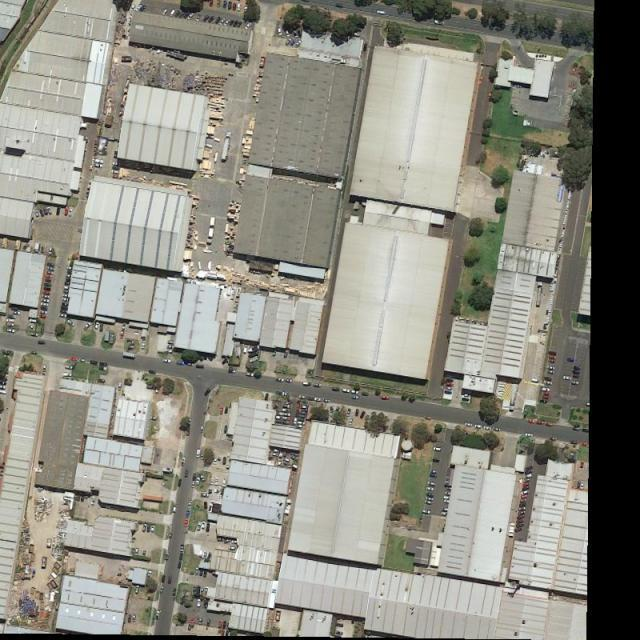vehicle: (68, 355, 81, 362), (202, 15, 210, 24), (434, 19, 446, 25), (359, 410, 366, 420), (223, 18, 231, 26), (66, 319, 74, 327), (83, 322, 91, 330), (29, 331, 39, 337), (64, 364, 74, 370), (155, 609, 161, 619), (172, 504, 178, 514), (200, 492, 210, 498), (227, 368, 237, 374), (381, 394, 391, 400), (543, 380, 553, 386), (179, 10, 186, 18), (183, 11, 190, 19), (188, 12, 195, 20), (245, 22, 252, 30), (5, 328, 16, 333), (63, 372, 74, 377), (162, 358, 173, 363), (94, 162, 103, 168), (134, 547, 140, 556), (549, 350, 558, 356), (39, 309, 49, 314), (197, 598, 202, 608), (215, 476, 220, 486), (196, 448, 201, 458), (354, 408, 359, 418), (136, 4, 143, 11), (175, 10, 181, 18), (196, 14, 202, 22), (208, 15, 214, 23), (215, 16, 221, 24), (246, 371, 254, 377), (314, 382, 322, 388), (298, 394, 306, 400), (227, 1, 232, 10), (43, 282, 52, 287), (42, 290, 51, 295), (12, 310, 21, 315), (61, 297, 70, 302), (135, 585, 140, 594), (193, 585, 198, 594), (164, 552, 169, 561), (194, 567, 199, 576), (188, 499, 193, 508), (284, 378, 293, 383), (342, 388, 351, 393), (350, 389, 359, 394), (464, 422, 473, 427), (517, 510, 526, 515), (524, 473, 533, 478), (525, 433, 534, 438), (526, 418, 535, 423), (549, 436, 558, 441), (542, 387, 551, 392), (64, 207, 69, 216), (5, 318, 16, 322), (547, 354, 558, 358), (161, 8, 167, 15), (208, 1, 214, 8), (220, 18, 226, 25), (233, 20, 239, 27), (295, 40, 301, 47), (170, 9, 175, 17), (238, 3, 242, 13), (94, 159, 104, 163), (42, 294, 50, 299), (42, 298, 50, 303), (28, 318, 38, 322), (59, 313, 67, 318), (94, 322, 99, 330), (141, 341, 146, 349), (206, 618, 211, 626), (168, 575, 172, 585), (197, 522, 201, 532), (180, 543, 184, 553), (178, 478, 182, 488), (185, 468, 189, 478), (213, 457, 218, 465), (200, 424, 204, 434), (176, 360, 184, 365), (186, 362, 194, 367), (314, 397, 322, 402), (474, 424, 482, 429), (493, 426, 501, 431), (427, 481, 435, 486), (426, 486, 434, 491), (426, 492, 434, 497), (426, 496, 434, 501), (425, 500, 433, 505), (580, 482, 585, 490), (514, 528, 524, 532), (518, 506, 526, 511), (376, 10, 386, 14), (69, 208, 73, 218), (233, 2, 237, 11), (40, 302, 49, 306), (6, 322, 15, 326), (118, 382, 122, 391), (201, 586, 205, 595), (162, 575, 166, 584), (150, 525, 154, 534), (142, 548, 146, 557), (228, 546, 237, 550), (179, 553, 183, 562), (183, 518, 187, 527), (186, 510, 190, 519), (191, 480, 195, 489), (195, 477, 199, 486), (222, 478, 226, 487), (220, 406, 224, 415), (275, 378, 284, 382), (302, 382, 311, 386), (349, 417, 353, 426), (422, 510, 431, 514), (535, 420, 544, 424), (539, 399, 548, 403), (546, 366, 555, 370), (130, 3, 135, 10), (35, 210, 40, 217), (198, 618, 203, 625), (546, 422, 553, 427), (290, 39, 295, 46), (285, 39, 290, 46), (278, 28, 282, 36), (47, 206, 51, 214), (46, 270, 54, 274), (38, 314, 46, 318), (59, 309, 67, 313), (62, 302, 70, 306), (62, 294, 70, 298), (30, 350, 38, 354), (132, 614, 136, 622), (160, 586, 164, 594), (218, 621, 222, 629), (205, 586, 209, 594), (142, 524, 146, 532), (203, 551, 207, 559), (178, 561, 182, 569), (210, 477, 214, 485), (483, 426, 491, 430), (516, 522, 524, 526), (522, 486, 530, 490), (571, 381, 579, 385), (563, 375, 571, 379), (446, 382, 454, 386), (546, 370, 554, 374), (548, 359, 556, 363), (110, 170, 118, 174), (112, 162, 120, 166), (56, 207, 60, 215), (286, 30, 290, 38), (294, 30, 298, 38), (216, 1, 221, 7), (441, 511, 447, 516), (445, 490, 451, 495), (230, 19, 234, 26), (238, 21, 242, 28), (47, 266, 54, 270), (45, 274, 52, 278), (45, 278, 52, 282), (167, 345, 174, 349), (430, 469, 437, 473), (442, 507, 449, 511), (443, 499, 450, 503), (443, 495, 450, 499), (516, 518, 523, 522), (519, 502, 526, 506), (519, 498, 526, 502), (521, 494, 528, 498), (521, 490, 528, 494), (523, 482, 530, 486), (523, 478, 530, 482), (581, 442, 588, 446), (202, 521, 205, 530), (570, 440, 579, 443), (1, 384, 5, 390), (433, 458, 439, 462), (518, 514, 524, 518), (223, 1, 226, 8), (44, 287, 51, 290), (434, 447, 441, 450), (430, 474, 437, 477)
